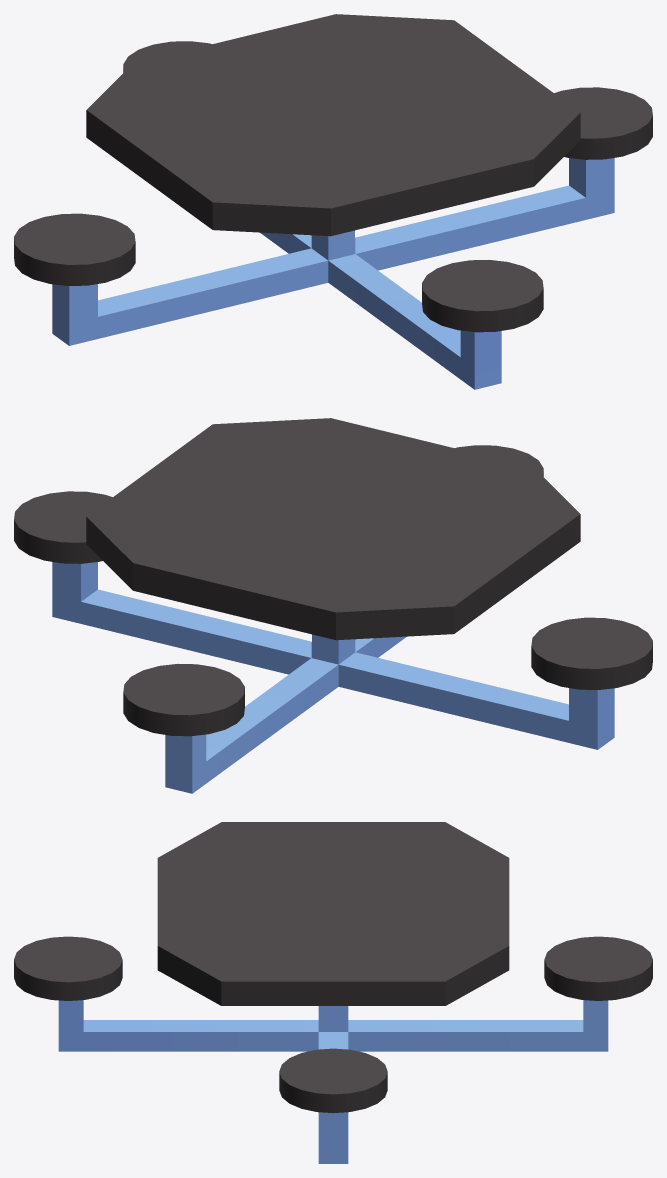
Rendered from table.fbx.
3 renders of one model, top to bottom at view 1: azimuth 30°, elevation 25°; view 2: azimuth 150°, elevation 25°; view 3: azimuth 270°, elevation 25°, orthographic. The views are drawn at different scales.
Parts seen in each view (by area): view 1: prison_table; view 2: prison_table; view 3: prison_table.
Part boxes in pixels (left/top/right/bottom): prison_table: left=14, top=14, right=652, bottom=389; prison_table: left=14, top=418, right=652, bottom=793; prison_table: left=14, top=822, right=652, bottom=1163.
Size of the model in its own units: 289 by 71.79 by 289.
Materials: 2 (2 with a texture image).
